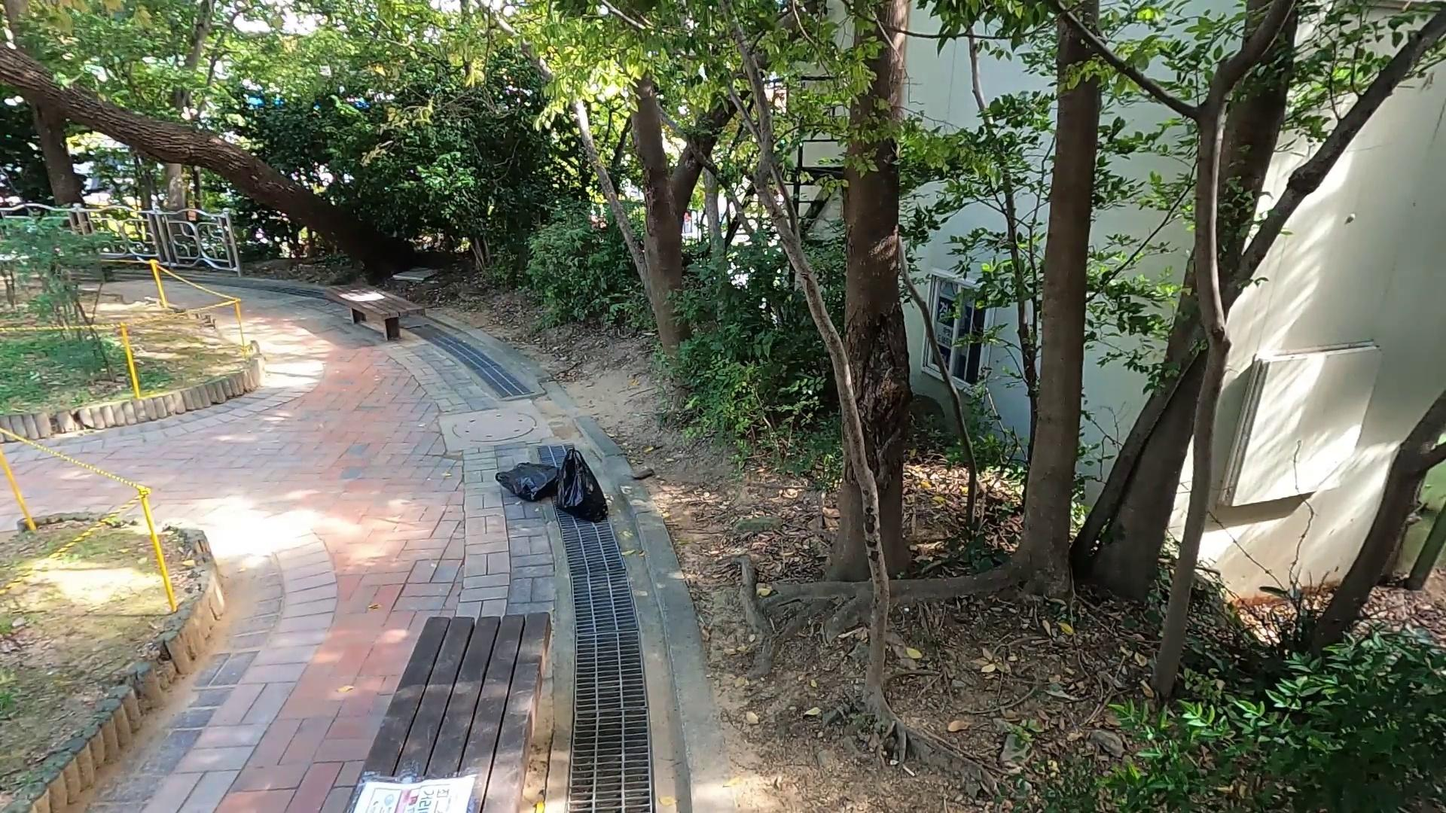trash: (550, 444, 607, 524), (493, 458, 557, 499)
